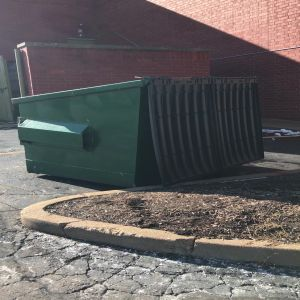Dumpster: (9, 73, 265, 179)
